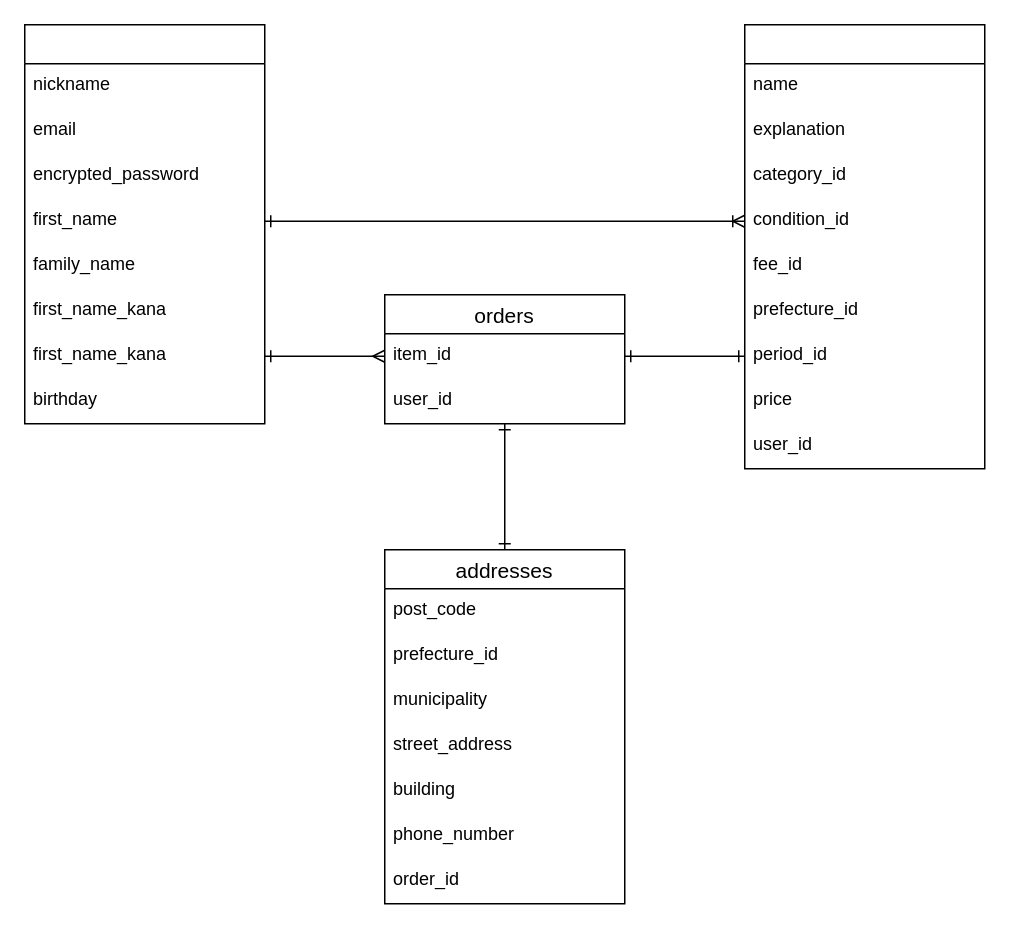
This 1010x929 diagram has some shape labels left out. The box of each missing label's shape, as (x1, y1, x2, y2) in pixels:
items: (743, 23, 985, 469)
users: (23, 23, 265, 424)
